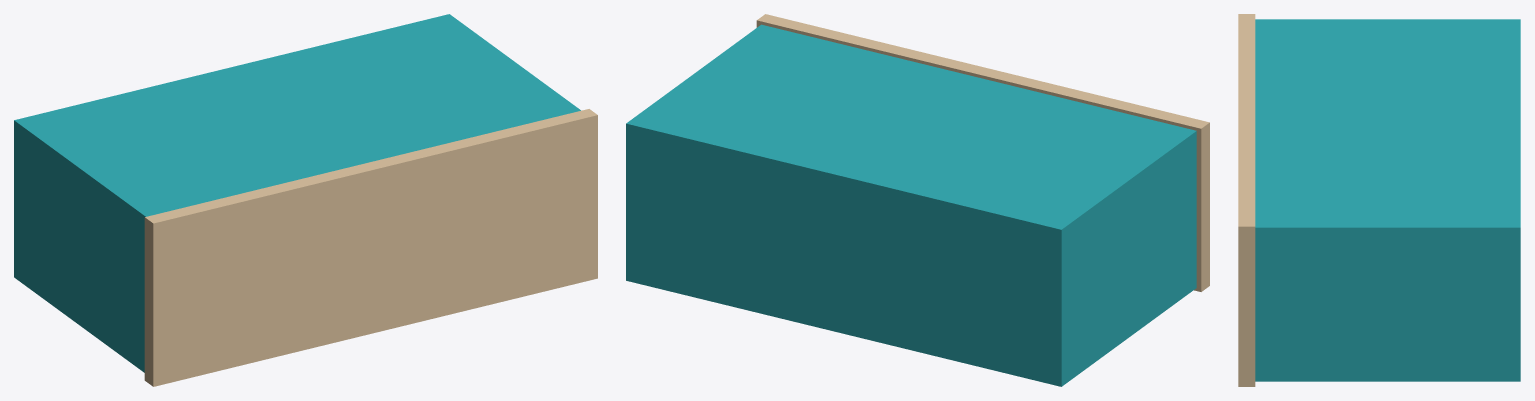
File: dresser.glb
The picture shows the model from 3 angles, left to right: view 1: azimuth 30°, elevation 25°; view 2: azimuth 150°, elevation 25°; view 3: azimuth 270°, elevation 25°; orthographic projection.
Parts seen in each view (by area): view 1: world; view 2: world; view 3: world.
Part boxes in pixels (x1,y1,x2,y2): world: [14, 14, 597, 386]; world: [626, 14, 1209, 386]; world: [1238, 14, 1520, 386].
Bounding box in the file's own units: 1.48 × 0.54 × 0.83.
